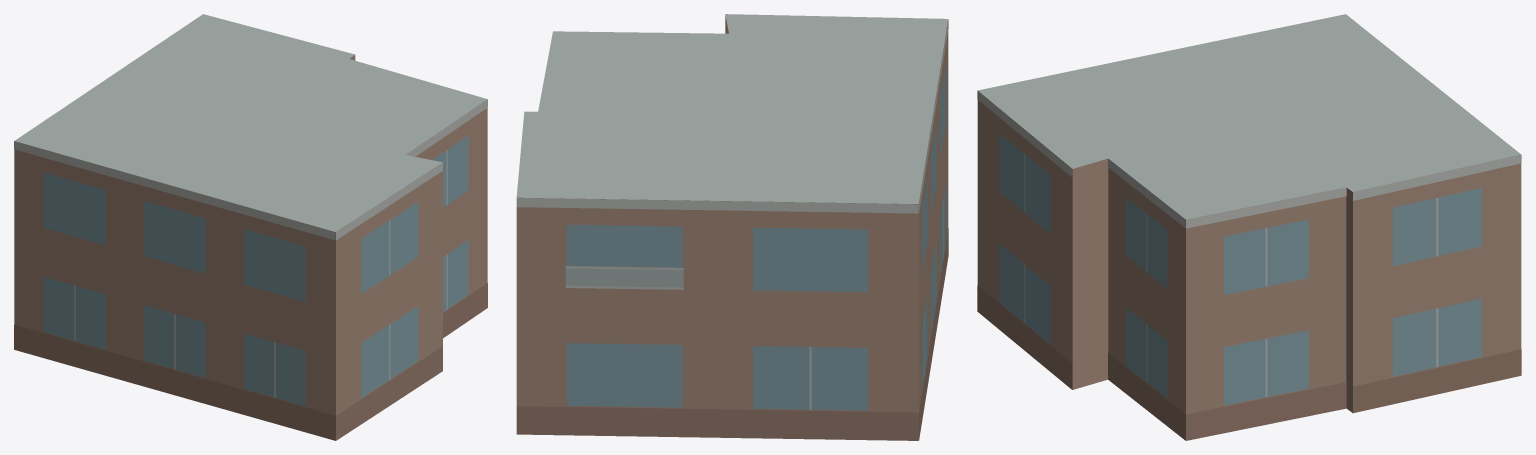
File: survey-upis-32981030.glb
3 renders of one model, left to right at view 1: azimuth 30°, elevation 25°; view 2: azimuth 150°, elevation 25°; view 3: azimuth 270°, elevation 25°, orthographic. The views are drawn at different scales.
Visible parts, largest first — view 1: survey-upis-32981030.tmp; view 2: survey-upis-32981030.tmp; view 3: survey-upis-32981030.tmp.
Boxes of the visible parts, x1,y1,x2,y2 form: survey-upis-32981030.tmp: (14, 14, 487, 440); survey-upis-32981030.tmp: (516, 14, 948, 440); survey-upis-32981030.tmp: (977, 14, 1521, 440).
Bounding box in the file's own units: 12.18 × 6.1 × 13.61.
